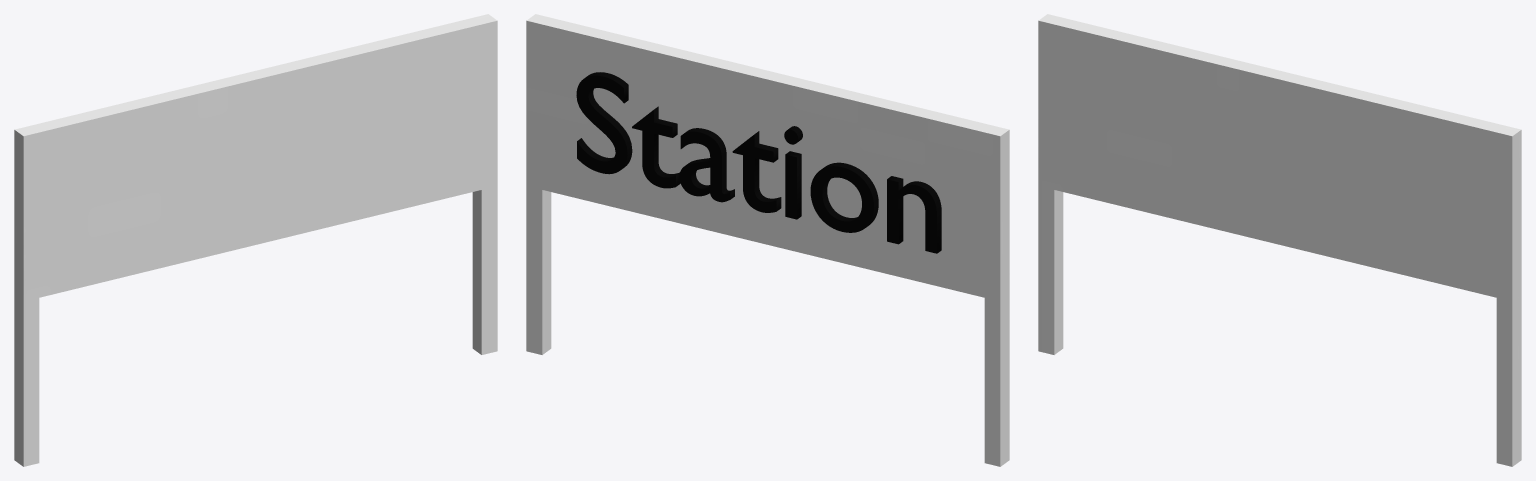
The model's file is station_sign.glb.
3 views of the same model, side by side, from view 1: azimuth 30°, elevation 25°; view 2: azimuth 150°, elevation 25°; view 3: azimuth 330°, elevation 25° (orthographic).
Parts seen in each view (by area): view 1: Cube; view 2: Cube; view 3: Cube.
Boxes of the visible parts, box(x1,y1,x2,y2) form: Cube: box(14, 14, 497, 466); Cube: box(526, 14, 1009, 466); Cube: box(1038, 14, 1521, 466).
Size of the model in its own units: 6 by 4 by 0.3025.
1 material, 1 textured.
